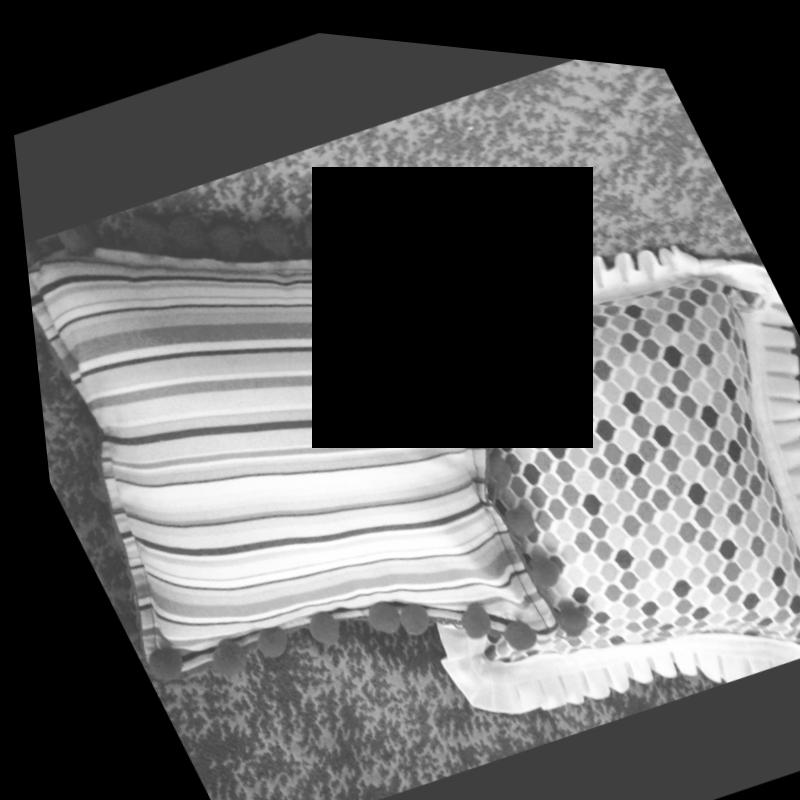pillow: (5, 62, 692, 800), (246, 176, 800, 768)
